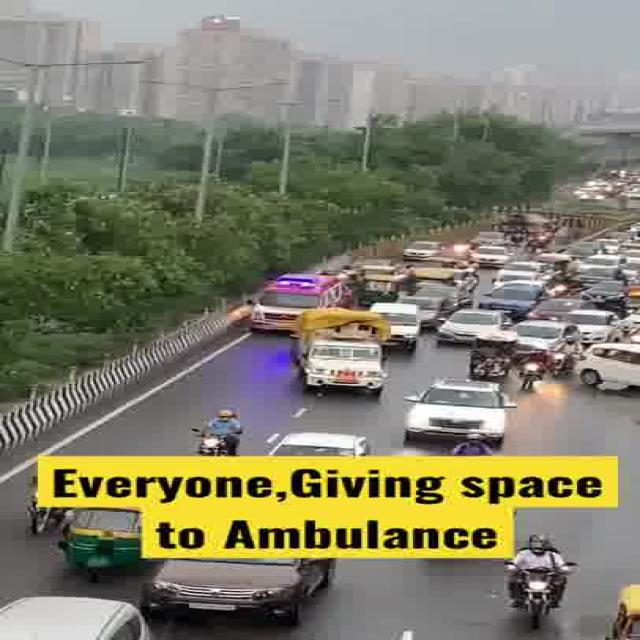ambulance: (256, 270, 347, 308)
